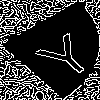Y: (25, 25, 100, 82)
